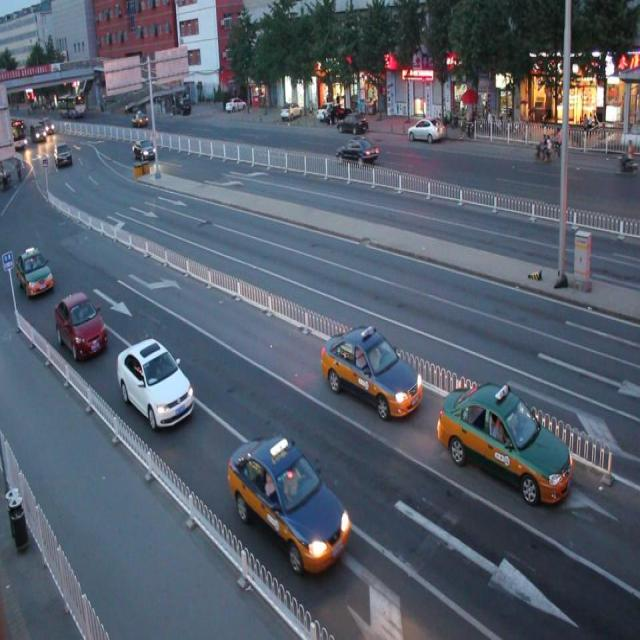car: (227, 433, 351, 570), (437, 376, 571, 502), (321, 321, 423, 417), (116, 334, 195, 429), (56, 288, 107, 358), (18, 244, 55, 302), (334, 135, 378, 166)
